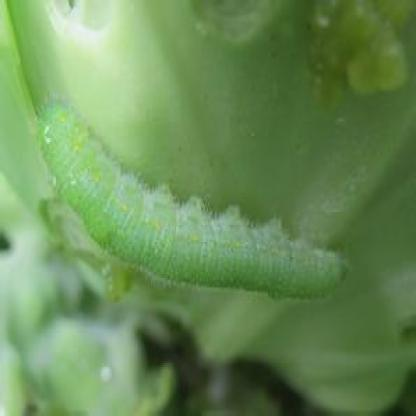armyworm: (35, 91, 350, 305)
